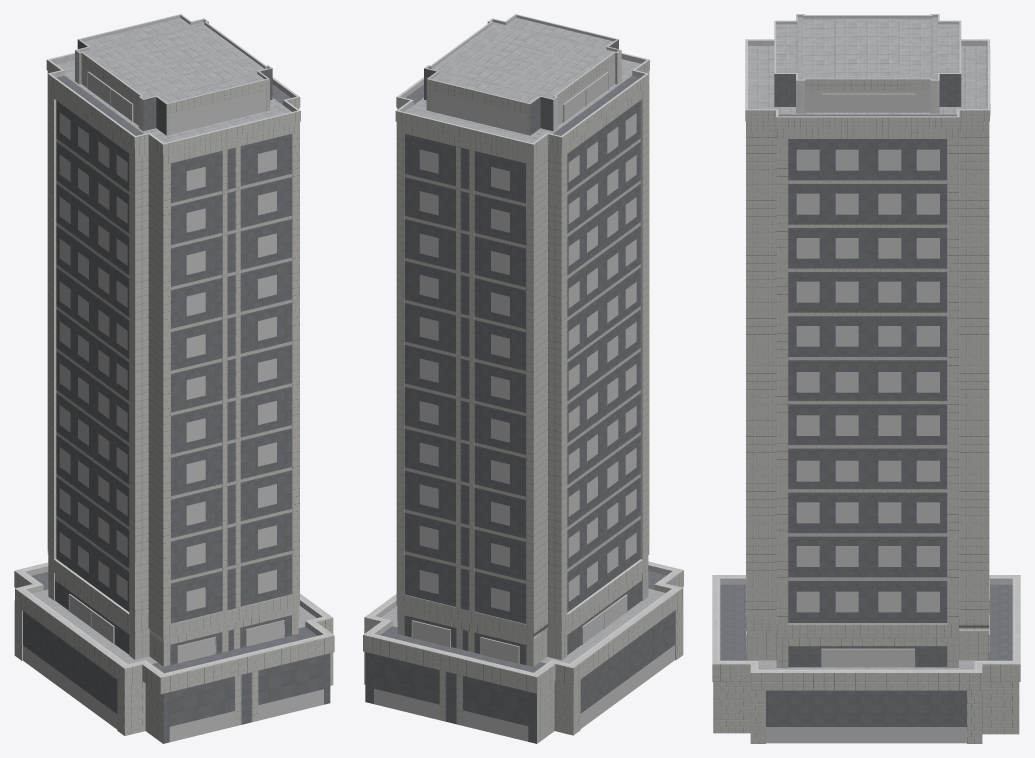
File: House_GS.fbx
3 renders of one model, left to right at view 1: azimuth 30°, elevation 25°; view 2: azimuth 150°, elevation 25°; view 3: azimuth 270°, elevation 25°, orthographic. The views are drawn at different scales.
Visible parts, largest first — view 1: HouseGS; view 2: HouseGS; view 3: HouseGS.
Boxes of the visible parts, box(x1,y1,x2,y2) form: HouseGS: box(14, 14, 334, 743); HouseGS: box(363, 14, 683, 743); HouseGS: box(712, 14, 1020, 743).
Size of what is drawn, in the model's own units: 32.92 by 91.99 by 40.
